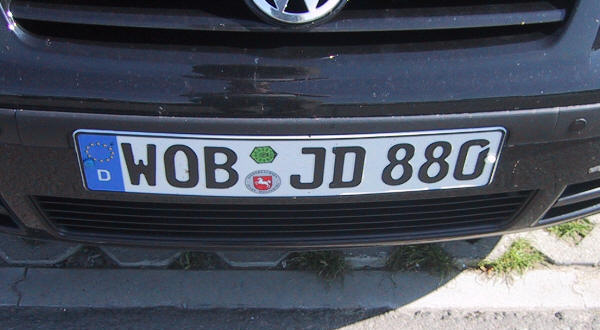license_plate: (70, 129, 507, 195)
